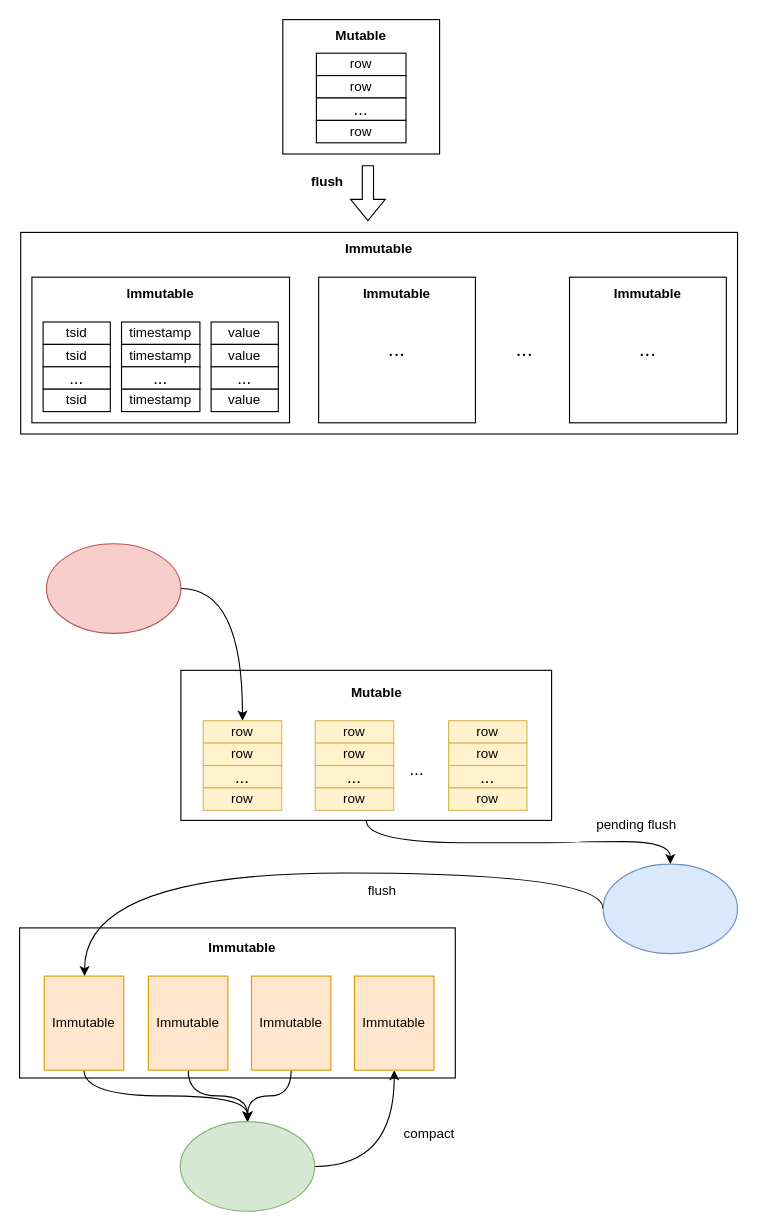
Image size: 757x1231. Some labels were removed from this diagram. Here are the shapes that lost their labels. From the top down, the centre of each, then its label:
At pixel 113 588: "WriteThread".
At pixel 670 908: "Flusher".
At pixel 247 1166: "Compactor".
